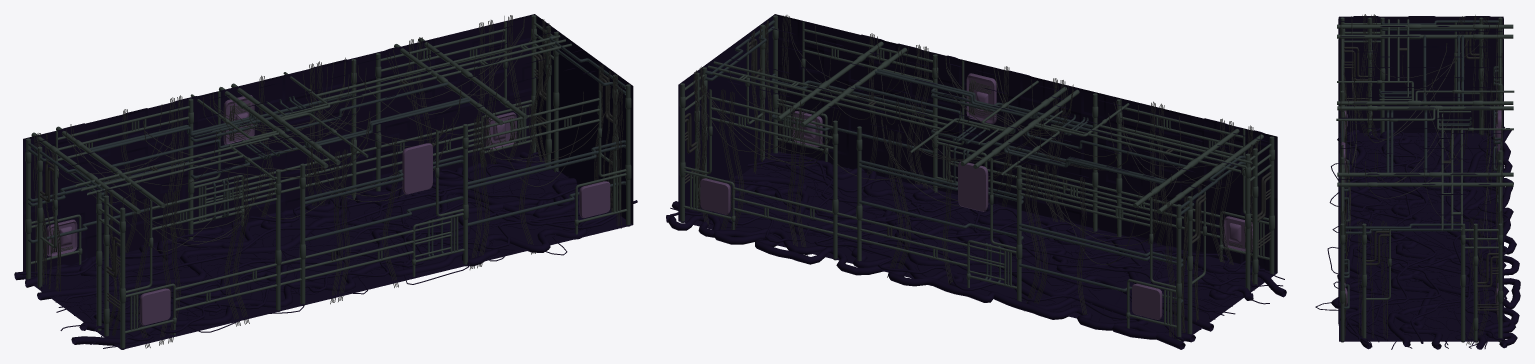
The model's file is full_1Lvl.fbx.
3 views of the same model, side by side, from view 1: azimuth 30°, elevation 25°; view 2: azimuth 150°, elevation 25°; view 3: azimuth 270°, elevation 25° (orthographic). The views are drawn at different scales.
Visible parts, largest first — view 1: LevelBox, NurbsPath.001, BézierCurve.014; view 2: LevelBox, NurbsPath.001, BézierCurve.014; view 3: LevelBox, NurbsPath.001, BézierCurve.014.
Boxes of the visible parts, x1,y1,x2,y2 form: LevelBox: (23,14,633,349); NurbsPath.001: (25,15,631,349); BézierCurve.014: (14,151,637,348); LevelBox: (678,14,1277,341); NurbsPath.001: (679,15,1274,340); BézierCurve.014: (666,153,1286,349); LevelBox: (1338,16,1503,341); NurbsPath.001: (1336,14,1514,345); BézierCurve.014: (1315,126,1520,349).
Bounding box in the file's own units: 3954 × 1124 × 1497.
